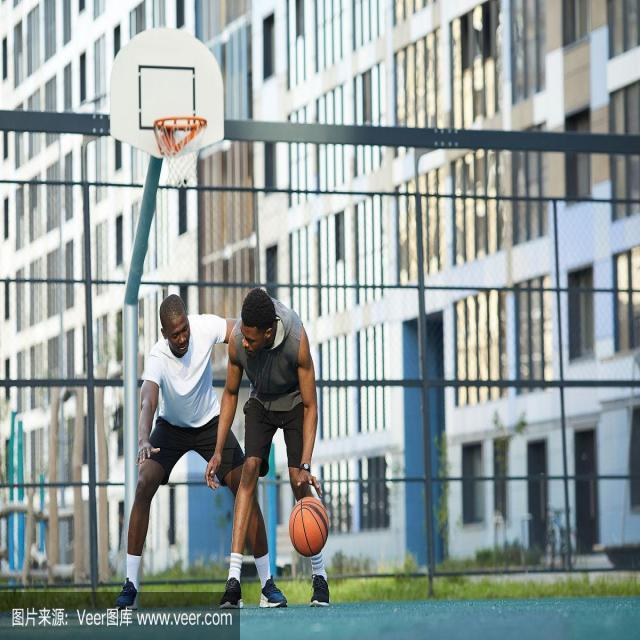rim: (290, 495, 328, 557)
